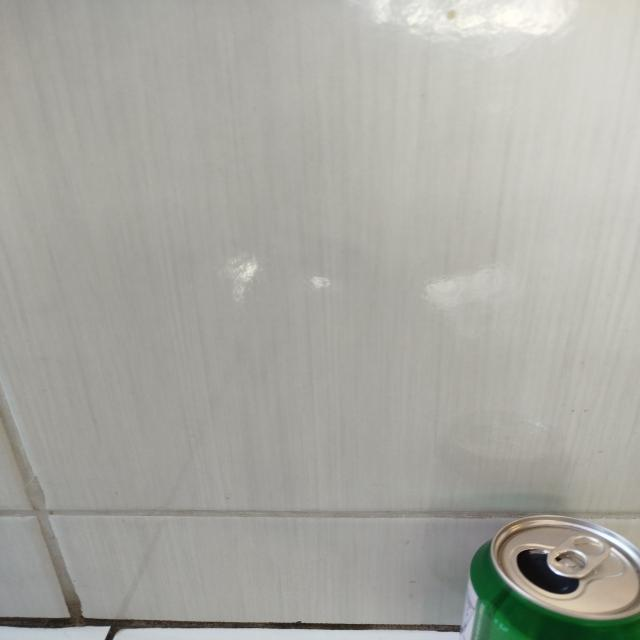Guarana: (467, 515, 640, 640)
